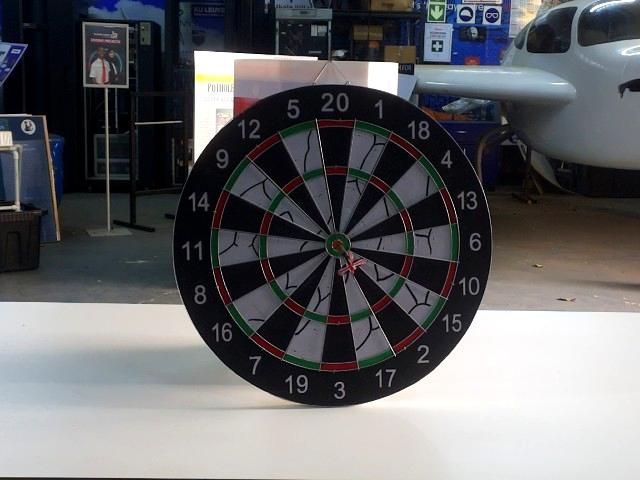bullseye: (333, 241, 343, 250)
